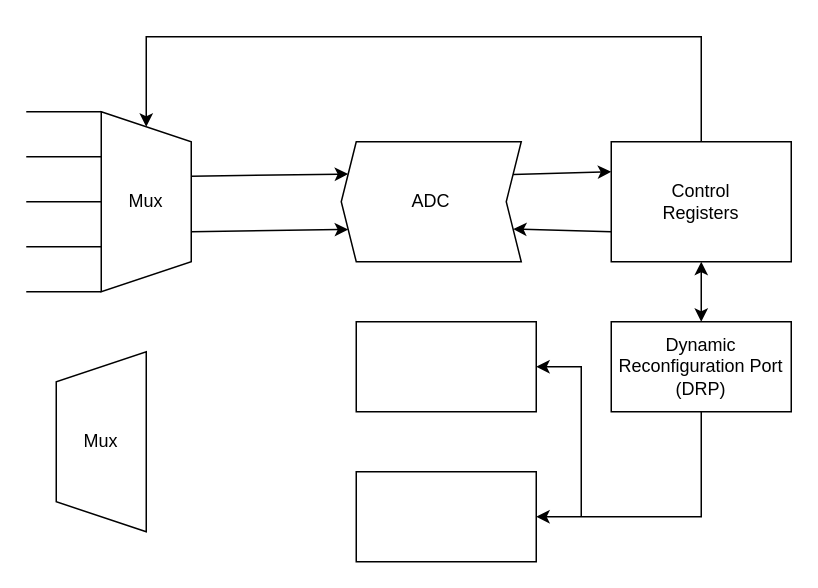
Image size: 818x588. Some labels were removed from this diagram. The centre of each missing label's shape, as x and y in pixels:
"FFT Block" belongs at [445,366].
"FIR Filter Block" belongs at [445,516].
